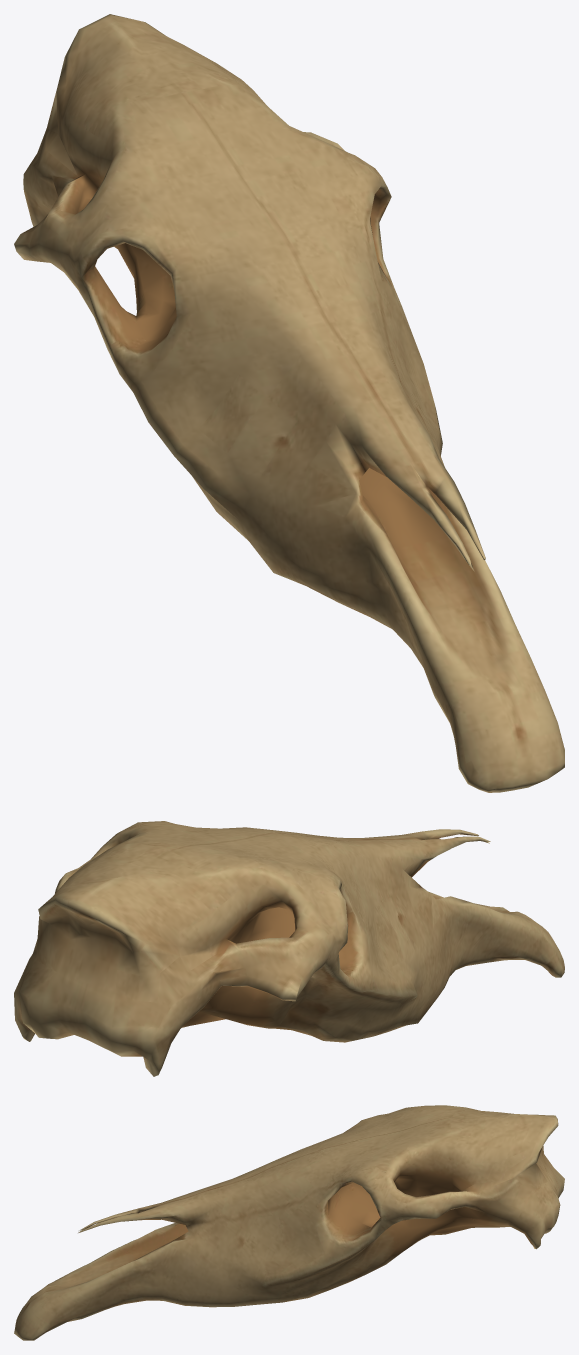
The model's file is Cranium.glb.
The picture shows the model from 3 angles, top to bottom: view 1: azimuth 30°, elevation 25°; view 2: azimuth 150°, elevation 25°; view 3: azimuth 270°, elevation 25°; orthographic projection. The views are drawn at different scales.
Parts seen in each view (by area): view 1: skull2.002; view 2: skull2.002; view 3: skull2.002.
Part boxes in pixels (left/top/right/bottom): skull2.002: left=14, top=14, right=564, bottom=792; skull2.002: left=14, top=821, right=564, bottom=1076; skull2.002: left=14, top=1105, right=564, bottom=1340.
Bounding box in the file's own units: 0.1973 × 0.2522 × 0.5425.
Materials: 1 (1 with a texture image).
